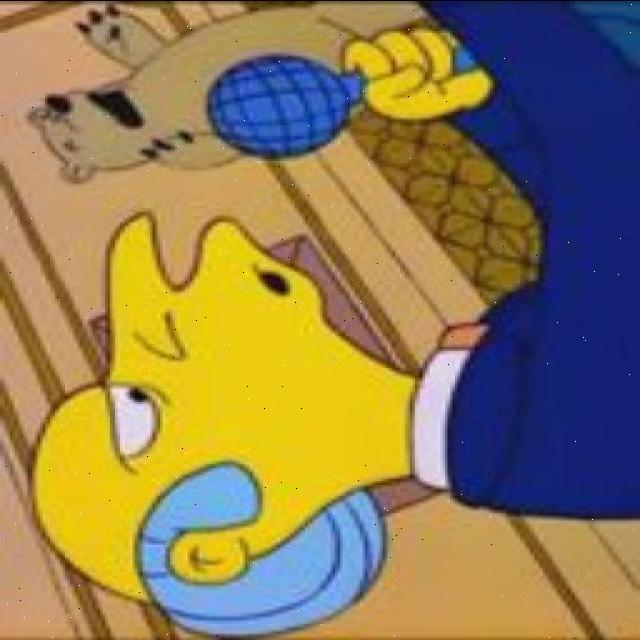Charles Montgomery Burns: (25, 205, 440, 638)
